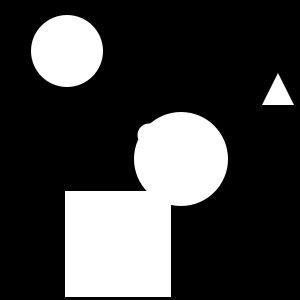circle: (65, 191, 171, 297)
rectangle: (134, 112, 228, 206), (31, 15, 103, 87), (138, 124, 160, 146)
triangle: (262, 73, 294, 105)
